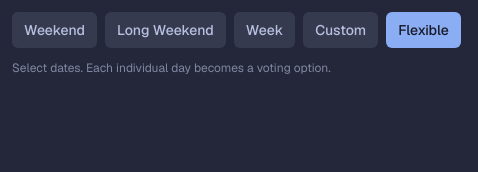
Test case: PatternPicker › long-weekend duration options › shows duration options when long-weekend is selected
Click the button "Long Weekend" at (165, 30), box [105,12,226,48]
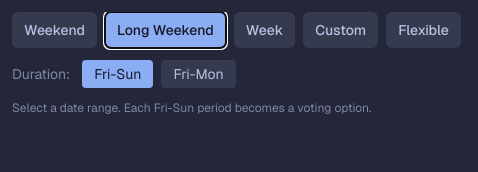
Result: the text "Duration:" is shown at [12,64,70,84]
Result: the button "Fri-Sun" is shown at [82,60,154,88]
Result: the button "Fri-Mon" is shown at [161,60,236,88]
